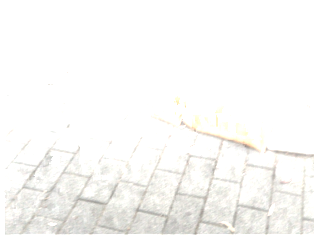Obstacle: (175, 117, 288, 154)
